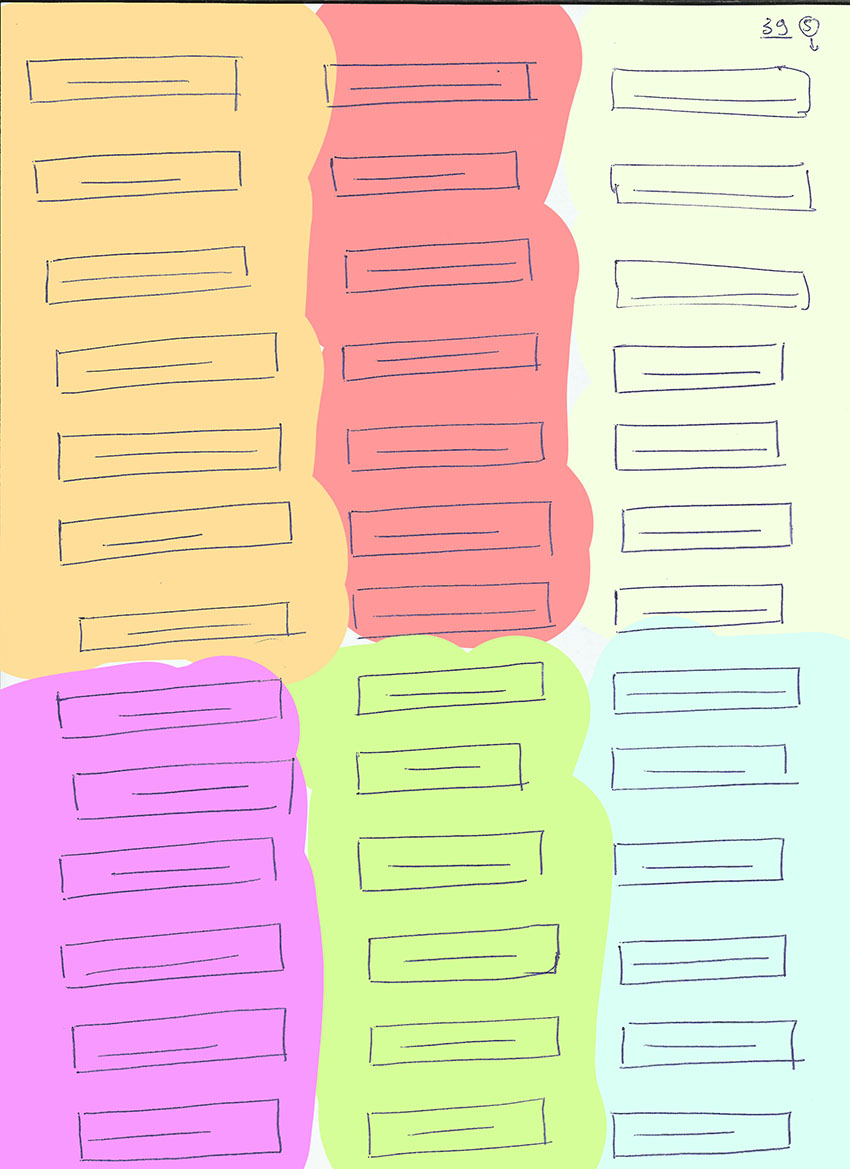edit_text: (57, 919, 288, 993), (56, 499, 295, 568), (52, 674, 285, 742), (55, 833, 281, 903), (52, 329, 281, 396), (69, 1004, 288, 1074), (70, 755, 298, 821), (52, 419, 286, 483), (74, 1097, 286, 1165), (42, 244, 252, 308), (606, 61, 814, 123), (21, 53, 243, 111), (364, 921, 562, 985), (354, 828, 548, 893), (75, 600, 308, 654), (606, 159, 819, 218), (345, 499, 558, 558), (29, 148, 244, 205), (363, 1094, 554, 1158), (348, 580, 558, 638), (612, 255, 812, 315), (343, 419, 548, 477), (617, 1015, 808, 1077), (352, 659, 549, 719), (341, 235, 537, 294), (319, 59, 541, 111), (339, 329, 542, 385), (364, 1013, 563, 1069), (610, 338, 788, 397), (613, 930, 791, 988), (326, 148, 523, 200), (607, 666, 804, 717), (619, 499, 795, 556), (608, 1106, 793, 1160), (611, 580, 787, 636), (607, 742, 800, 793), (611, 419, 789, 474), (352, 741, 530, 796), (611, 833, 787, 888)
